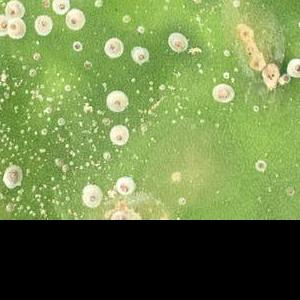Femea: (82, 186, 99, 203), (64, 12, 79, 29), (34, 16, 50, 31), (109, 95, 124, 111), (287, 57, 299, 77), (7, 168, 21, 185), (53, 0, 67, 15), (5, 4, 21, 17), (0, 16, 10, 36), (168, 37, 184, 49), (117, 182, 133, 194), (10, 20, 23, 34), (132, 49, 146, 62), (106, 40, 117, 52), (253, 161, 266, 171), (111, 130, 121, 142), (71, 39, 80, 50)
Linfa: (24, 86, 44, 105), (2, 205, 20, 224), (0, 81, 16, 101), (49, 191, 69, 205), (15, 126, 38, 138), (80, 159, 93, 178), (45, 174, 60, 190), (25, 209, 51, 217), (0, 120, 15, 133), (30, 195, 41, 212), (58, 93, 65, 111), (54, 133, 65, 144), (16, 146, 22, 166), (15, 151, 20, 169), (0, 70, 9, 80), (37, 147, 47, 154), (25, 205, 31, 210)
